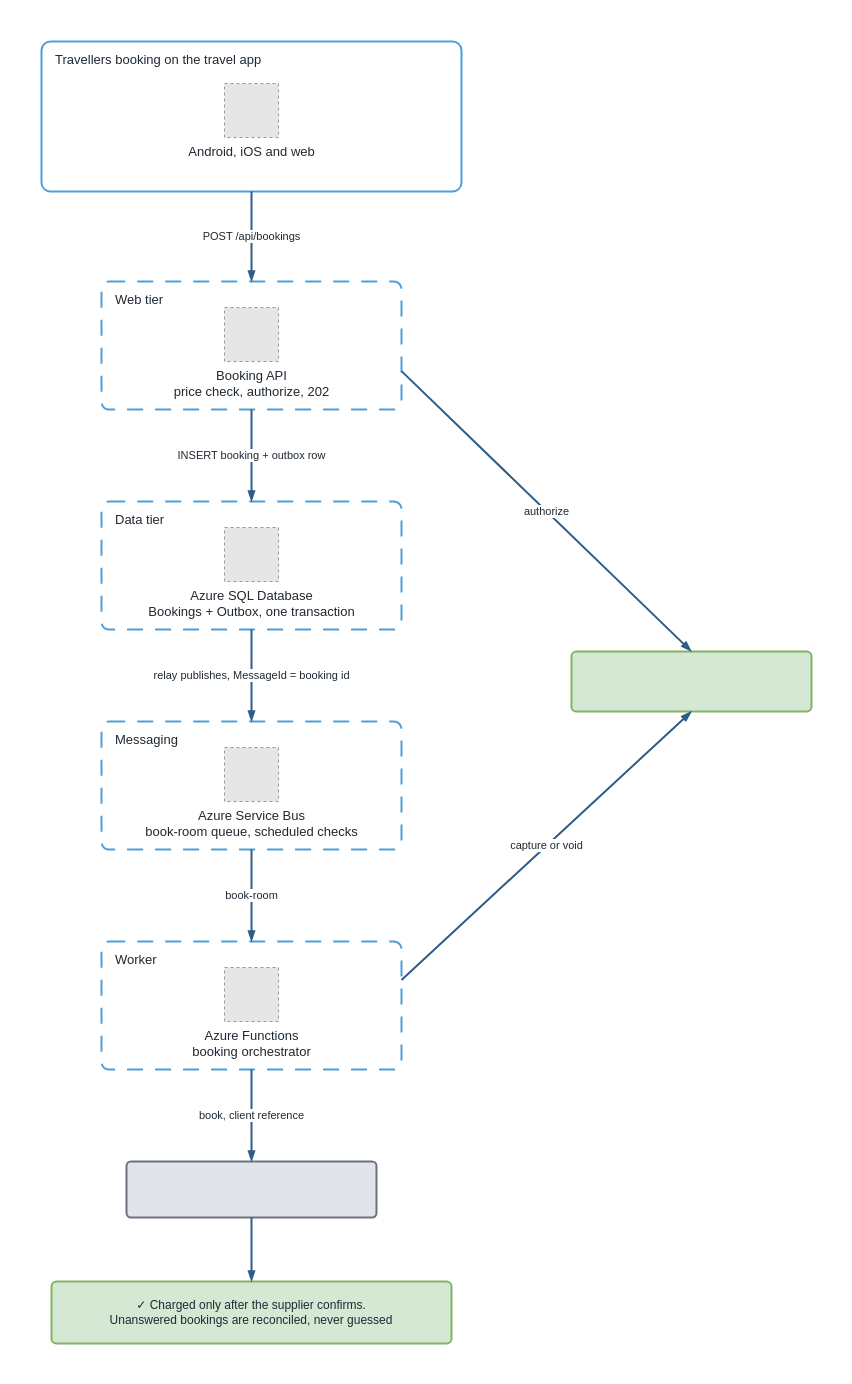
The diagram is 852 pixels wide and 1384 high, and some of its shapes have lost their labels. Grey dashed boxes stand in for pictures. Each missing label, with the centre of its shape:
Payment gateway authorize, then capture or void: the point at 691,681
Supplier booking APIs through the same adapters: the point at 251,1189
